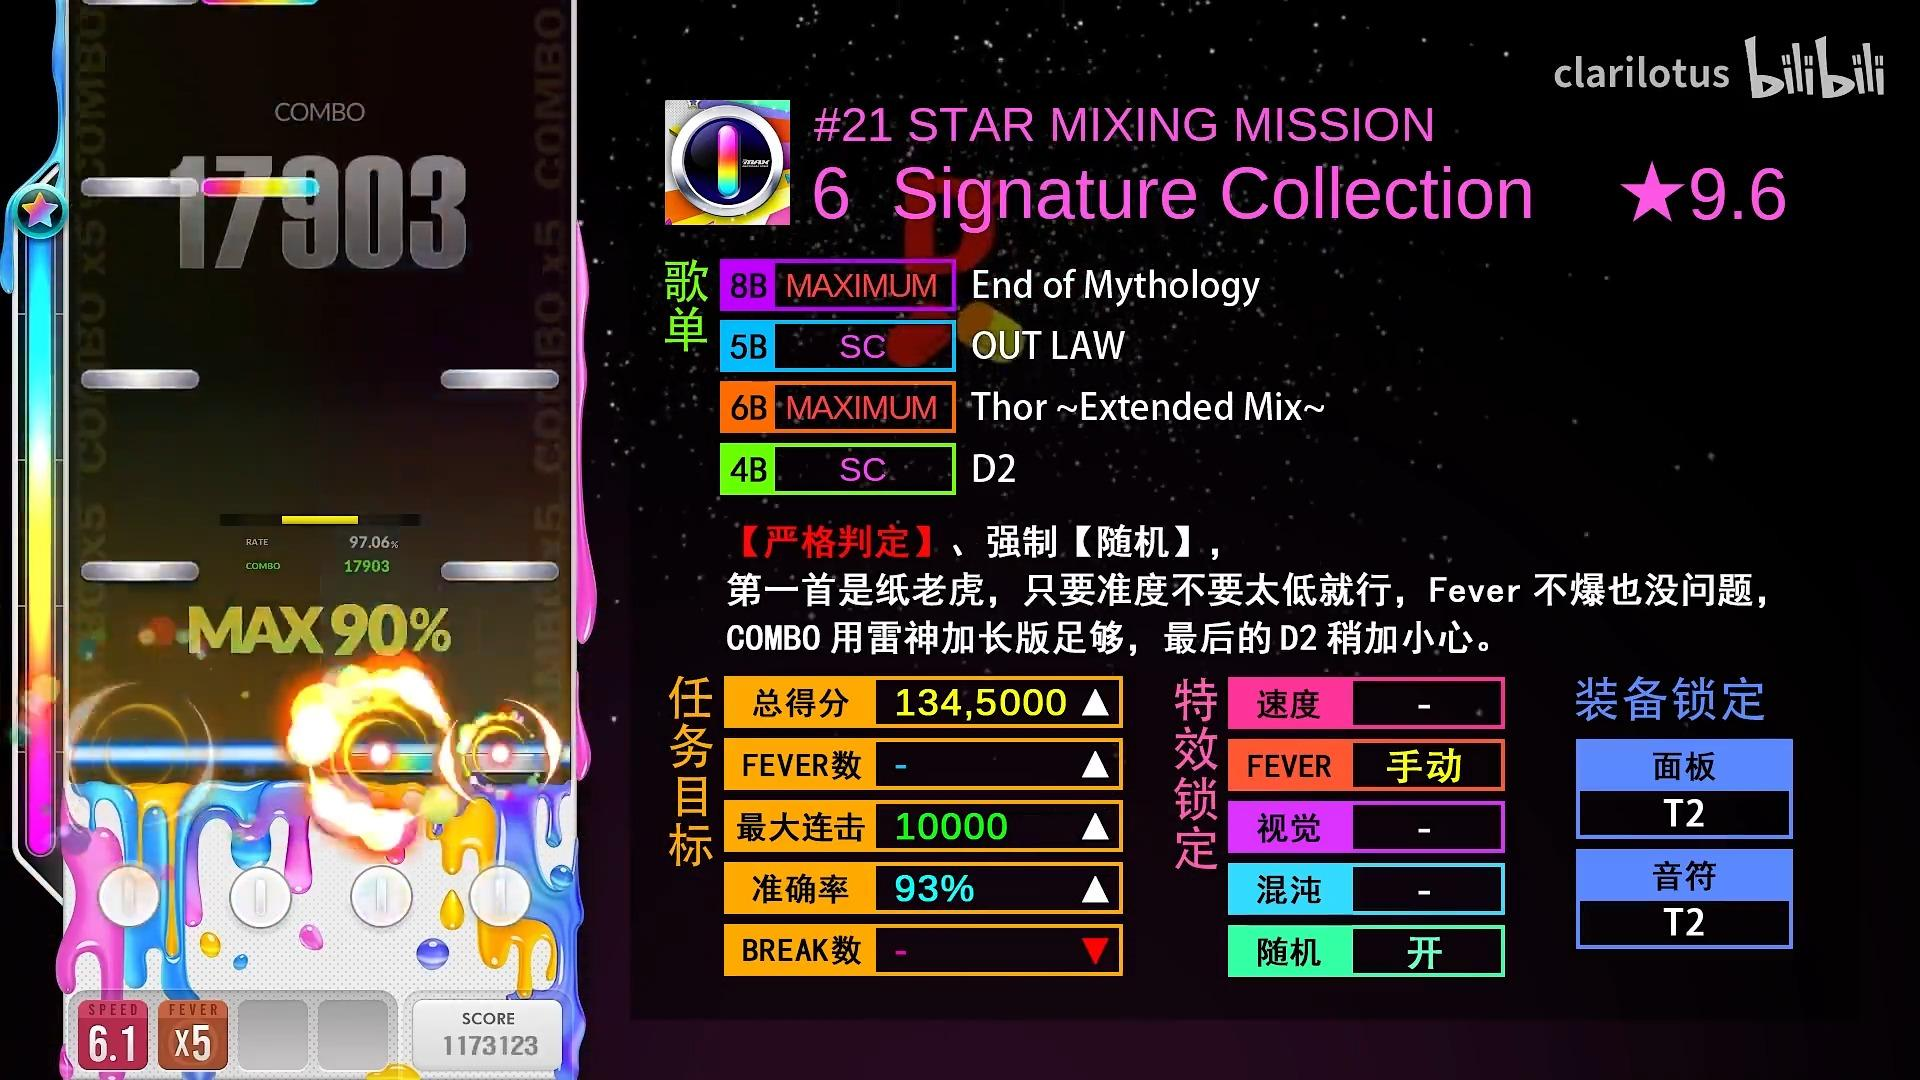note: (80, 175, 200, 199), (200, 177, 320, 198), (440, 369, 560, 390), (80, 560, 200, 582), (80, 368, 199, 389), (440, 560, 559, 582)
